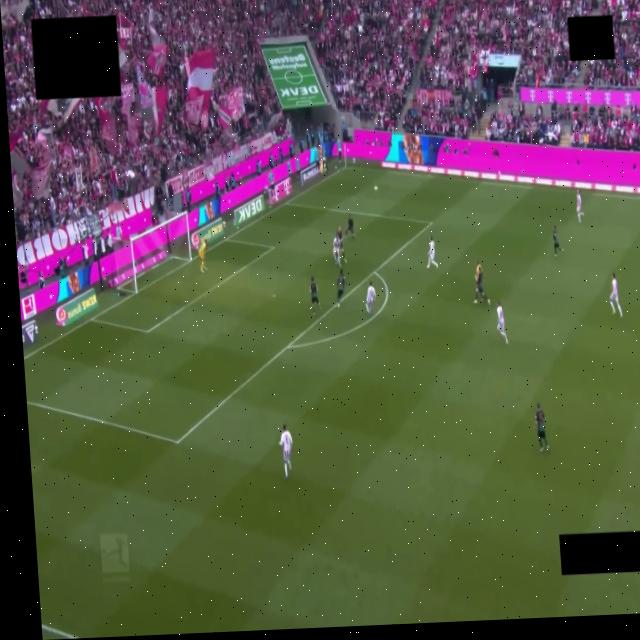ball: (374, 186, 377, 191)
player: (534, 404, 549, 452), (473, 263, 489, 305), (279, 426, 291, 478), (609, 274, 622, 316), (496, 302, 507, 344), (309, 277, 320, 314), (426, 237, 437, 268), (336, 226, 345, 263), (365, 282, 375, 315), (552, 225, 562, 256), (336, 269, 344, 307), (198, 240, 206, 272), (332, 236, 340, 266), (576, 191, 583, 222), (345, 215, 354, 239)
referee: (475, 263, 484, 279)
